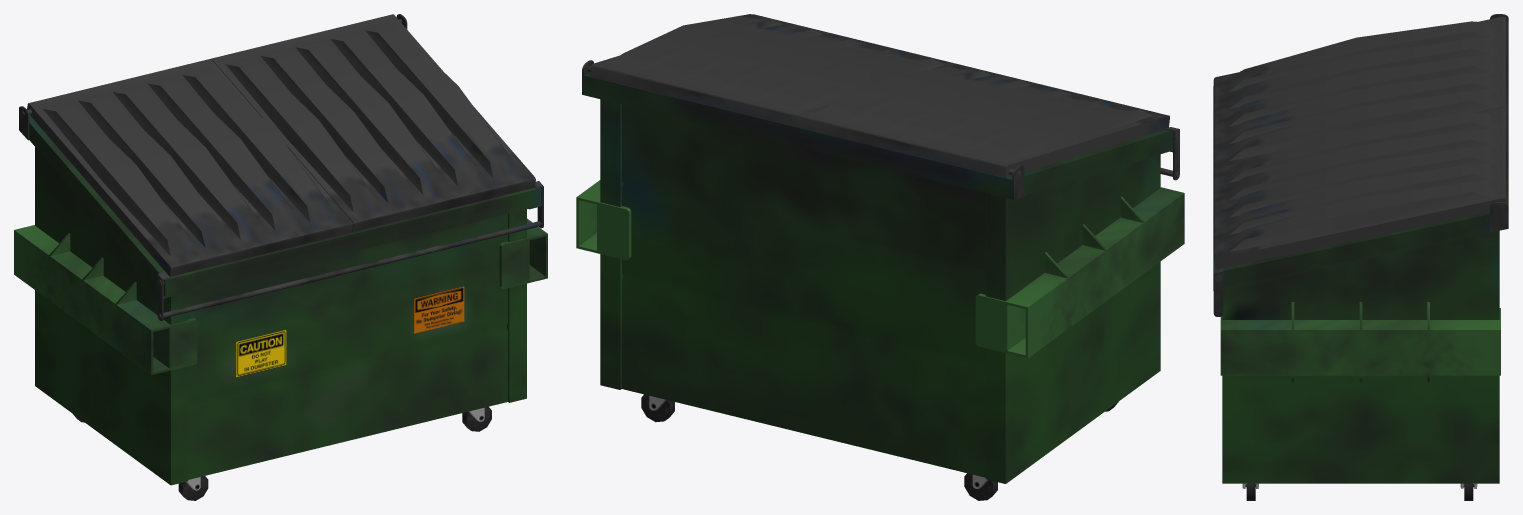
Rendered from Contenedor de basura.fbx.
3 views of the same model, side by side, from view 1: azimuth 30°, elevation 25°; view 2: azimuth 150°, elevation 25°; view 3: azimuth 270°, elevation 25° (orthographic). The views are drawn at different scales.
Visible parts, largest first — view 1: DumpsterBin, LidLeft, LidLeft.001, BracketRight, Handle, sign2, sign1; view 2: DumpsterBin, LidLeft, LidLeft.001, BracketRight; view 3: DumpsterBin, LidLeft.001, LidLeft, BracketRight, HingeBracket, Handle.
Part boxes in pixels (<box>): DumpsterBin: <box>29,115,541,485</box>; LidLeft: <box>27,59,352,276</box>; LidLeft.001: <box>211,14,535,232</box>; BracketRight: <box>14,218,547,374</box>; Handle: <box>157,181,543,320</box>; sign2: <box>414,286,464,333</box>; sign1: <box>236,330,286,376</box>; DumpsterBin: <box>583,73,1172,483</box>; LidLeft: <box>798,65,1169,177</box>; LidLeft.001: <box>590,14,960,127</box>; BracketRight: <box>576,180,1184,358</box>; DumpsterBin: <box>1213,23,1508,483</box>; LidLeft.001: <box>1213,107,1507,269</box>; LidLeft: <box>1213,16,1507,169</box>; BracketRight: <box>1220,302,1500,383</box>; HingeBracket: <box>1490,14,1508,232</box>; Handle: <box>1213,268,1223,316</box>.
Bounding box in the file's own units: 236 × 180 × 149.
